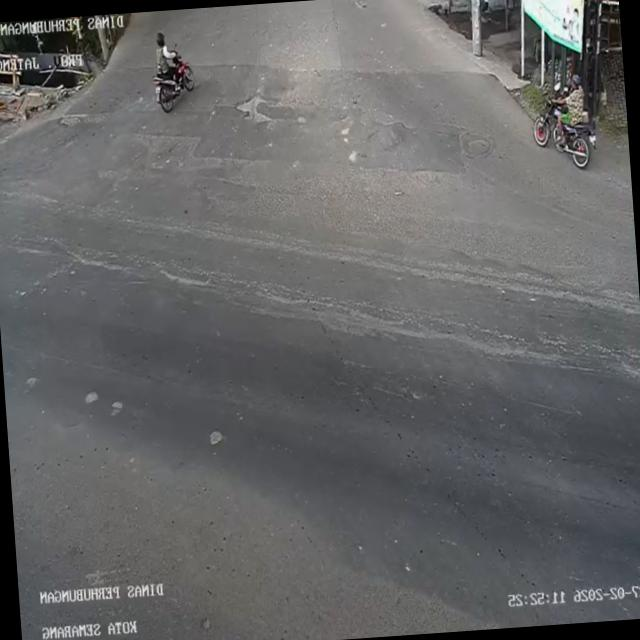motorcycle: (527, 102, 595, 176), (152, 62, 198, 116)
person: (551, 72, 585, 130), (153, 33, 180, 78)
rider_region: (526, 72, 600, 171), (148, 30, 200, 116)
